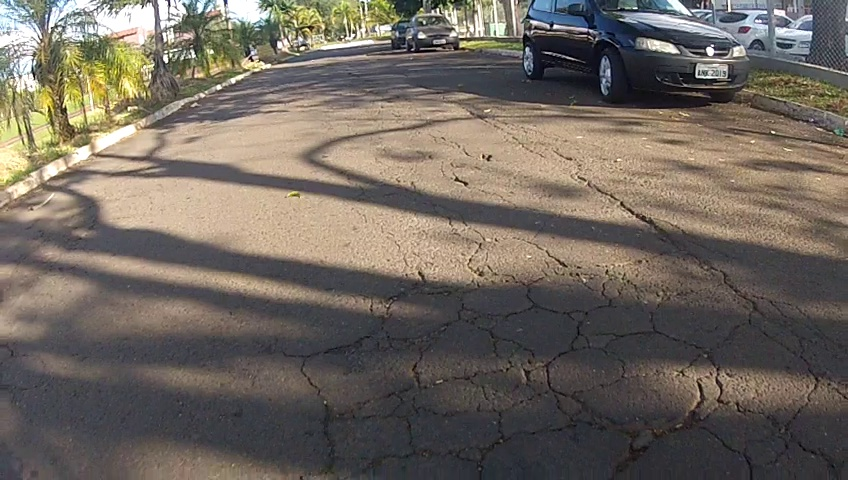TLT: (497, 139, 744, 276)
TRF: (288, 213, 816, 480)
